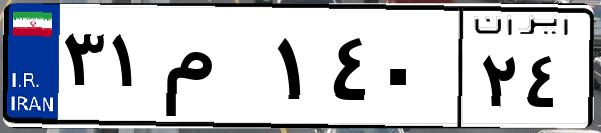0: (385, 28, 445, 110)
1: (270, 28, 330, 110), (110, 28, 158, 98)
2: (475, 38, 525, 113)
3: (57, 26, 110, 100)
4: (330, 28, 385, 110), (525, 38, 570, 115)
م: (158, 20, 270, 120)
